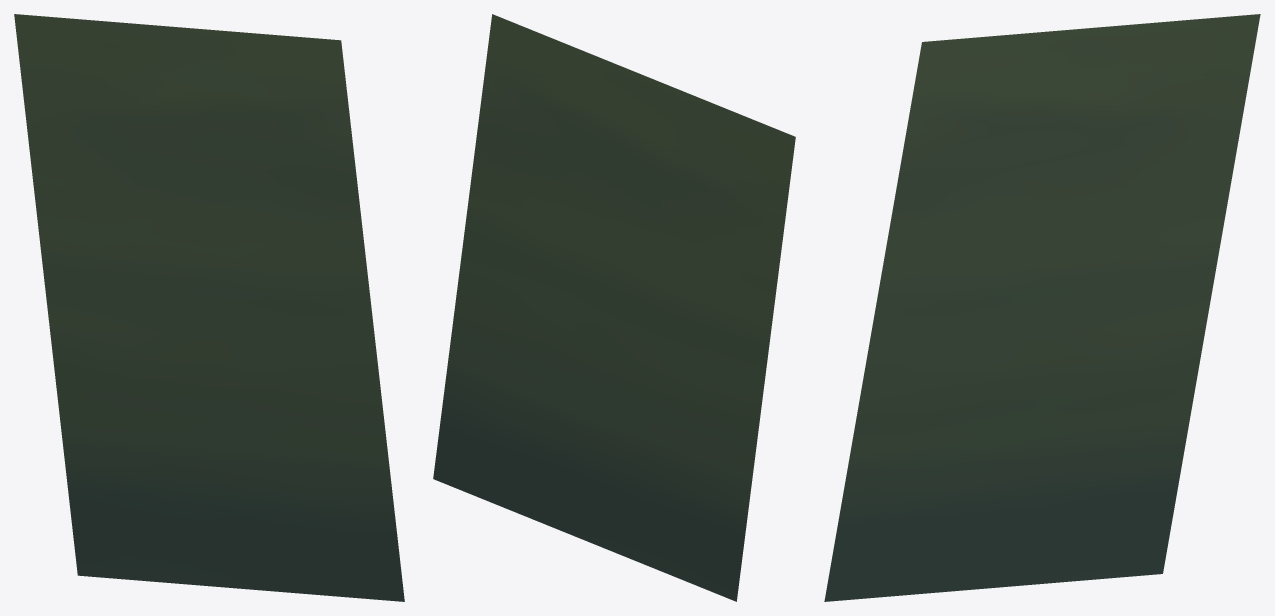
The model's file is pplane48_lambert6_0.005_lev2.glb.
3 views of the same model, side by side, from view 1: azimuth 30°, elevation 25°; view 2: azimuth 210°, elevation 25°; view 3: azimuth 270°, elevation 25° (orthographic). The views are drawn at different scales.
Parts seen in each view (by area): view 1: pplane48_lambert6_0.005_lev2; view 2: pplane48_lambert6_0.005_lev2; view 3: pplane48_lambert6_0.005_lev2.
Boxes of the visible parts, x1,y1,x2,y2 form: pplane48_lambert6_0.005_lev2: (14, 14, 404, 601); pplane48_lambert6_0.005_lev2: (433, 14, 795, 601); pplane48_lambert6_0.005_lev2: (824, 14, 1260, 601).
Bounding box in the file's own units: 0.0549 × 0.1698 × 0.1107.
1 material, 1 textured.
